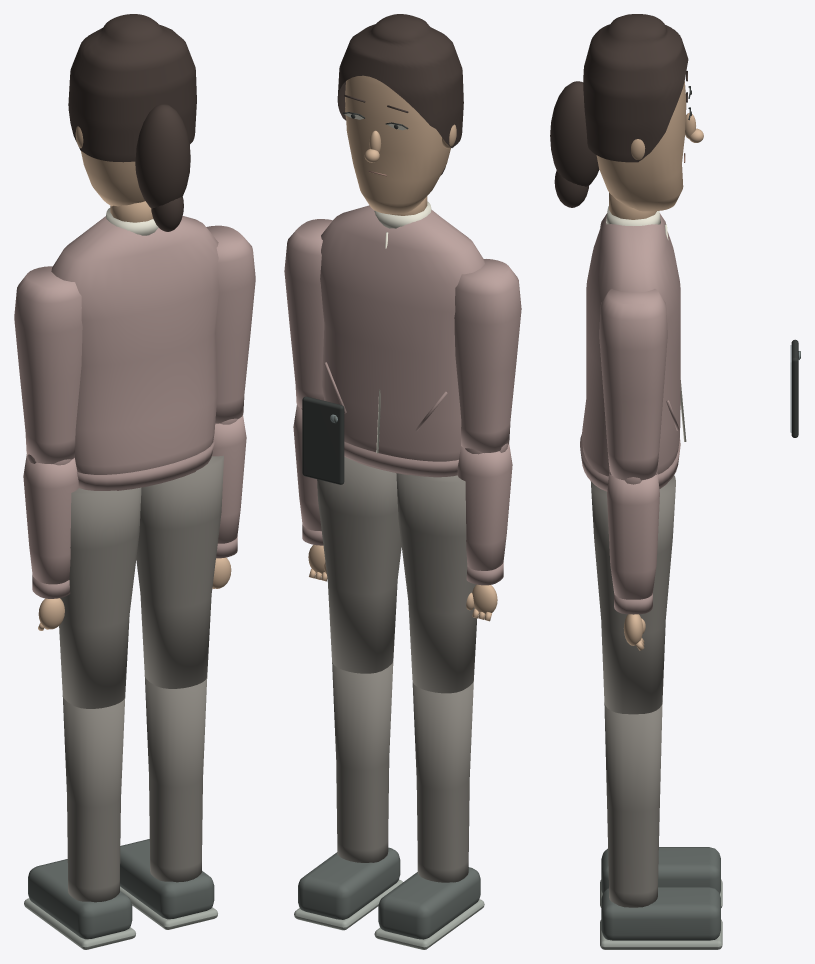
Rendered from ambient_photographer.glb.
3 renders of one model, left to right at view 1: azimuth 30°, elevation 25°; view 2: azimuth 150°, elevation 25°; view 3: azimuth 270°, elevation 25°, orthographic.
Visible parts, largest first — view 1: QuietClothTorso, Brow, TrouserThigh.001, TrouserThigh, Sleeve, Knee.001, Knee, Sleeve.001, ElbowTransition, OrdinaryShoe, OrdinaryShoe.001, ElbowTransition.001 (+8 smaller); view 2: QuietClothTorso, TrouserThigh.001, TrouserThigh, Sleeve, Knee.001, Knee, AdultFace, Brow, Sleeve.001, ElbowTransition, OrdinaryShoe, OrdinaryShoe.001 (+9 smaller); view 3: Brow, QuietClothTorso, Sleeve.001, Knee.001, TrouserThigh.001, ElbowTransition.001, AdultFace, OrdinaryShoe.001, OrdinaryShoe, ShoeSole.001, Hem, PhoneBody (+4 smaller).
Part boxes in pixels (x1=…): QuietClothTorso: x1=51, y1=216, x2=219, y2=490; Brow: x1=68, y1=14, x2=196, y2=231; TrouserThigh.001: x1=136, y1=455, x2=223, y2=688; TrouserThigh: x1=59, y1=487, x2=141, y2=708; Sleeve: x1=14, y1=266, x2=82, y2=463; Knee.001: x1=144, y1=675, x2=207, y2=882; Knee: x1=62, y1=695, x2=125, y2=902; Sleeve.001: x1=206, y1=225, x2=255, y2=423; ElbowTransition: x1=23, y1=454, x2=78, y2=584; OrdinaryShoe: x1=28, y1=859, x2=132, y2=939; OrdinaryShoe.001: x1=120, y1=839, x2=214, y2=919; ElbowTransition.001: x1=212, y1=415, x2=246, y2=543; QuietClothTorso: x1=320, y1=205, x2=484, y2=477; TrouserThigh.001: x1=317, y1=456, x2=401, y2=673; TrouserThigh: x1=396, y1=473, x2=477, y2=693; Sleeve: x1=454, y1=259, x2=521, y2=452; Knee.001: x1=332, y1=661, x2=393, y2=862; Knee: x1=412, y1=680, x2=473, y2=882; AdultFace: x1=345, y1=75, x2=456, y2=214; Brow: x1=337, y1=14, x2=463, y2=174; Sleeve.001: x1=284, y1=219, x2=332, y2=408; ElbowTransition: x1=457, y1=443, x2=512, y2=570; OrdinaryShoe: x1=378, y1=867, x2=480, y2=939; OrdinaryShoe.001: x1=298, y1=847, x2=400, y2=919; Brow: x1=550, y1=14, x2=688, y2=207; QuietClothTorso: x1=581, y1=214, x2=680, y2=491; Sleeve.001: x1=599, y1=289, x2=667, y2=480; Knee.001: x1=604, y1=702, x2=662, y2=907; TrouserThigh.001: x1=591, y1=475, x2=675, y2=714; ElbowTransition.001: x1=607, y1=468, x2=659, y2=599; AdultFace: x1=596, y1=81, x2=703, y2=211; OrdinaryShoe.001: x1=601, y1=887, x2=720, y2=940; OrdinaryShoe: x1=601, y1=847, x2=720, y2=893; ShoeSole.001: x1=600, y1=919, x2=722, y2=949; Hem: x1=580, y1=400, x2=680, y2=489; PhoneBody: x1=791, y1=339, x2=798, y2=437.
Size of the model in its own units: 0.408 by 1.54 by 0.388.
